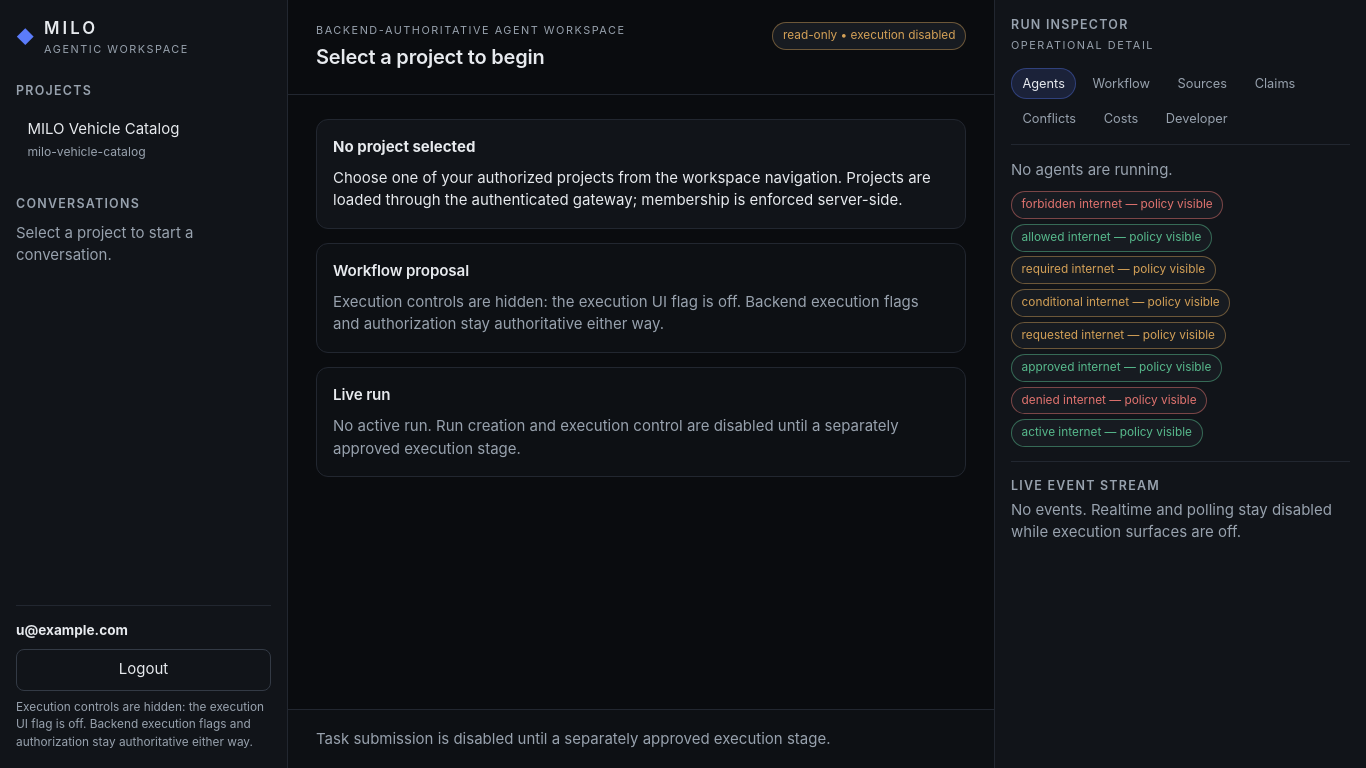
Test case: authenticated workspace (execution UI disabled) › surfaces conversation creation failures without crashing
This screenshot has width=1366, height=768.
Click the text "MILO Vehicle Catalog" at [103, 128], box [27,119,179,138]
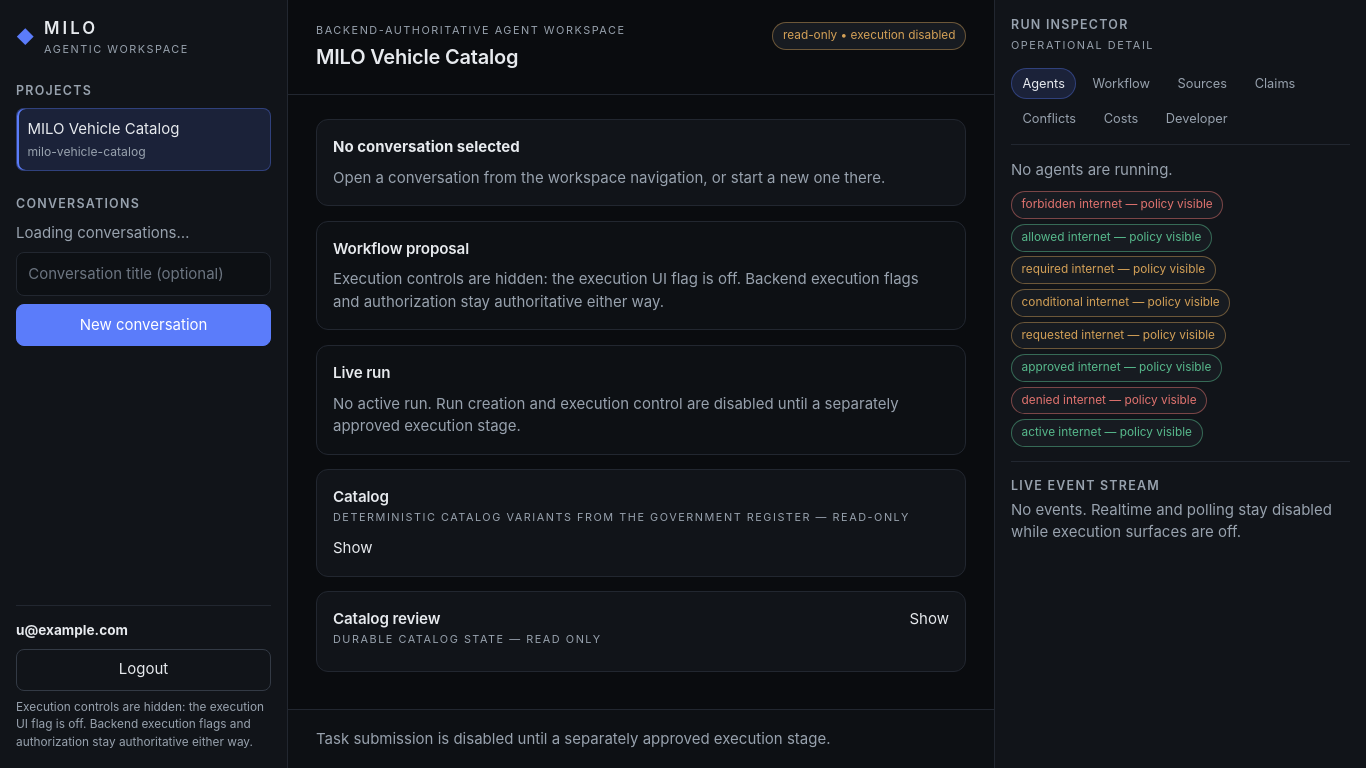
Click the button "New conversation" at [144, 325], box [16,304,271,346]
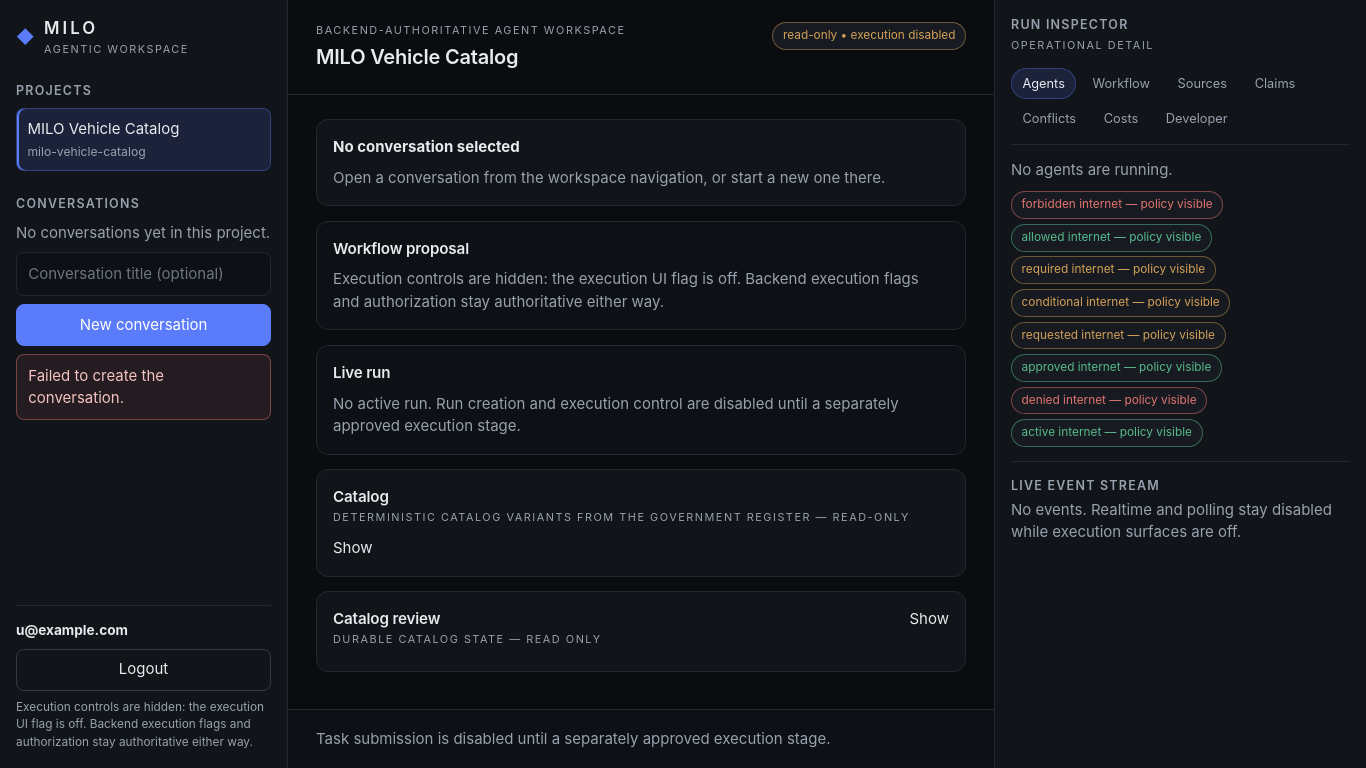
Expected: the message does not show "403 blocked", [16,354,271,420]
Expected: the message reads "Failed to create the conversation.", [28,366,164,407]
